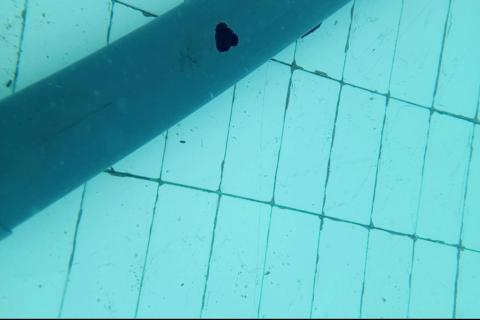kebocoran: (213, 20, 240, 52)
